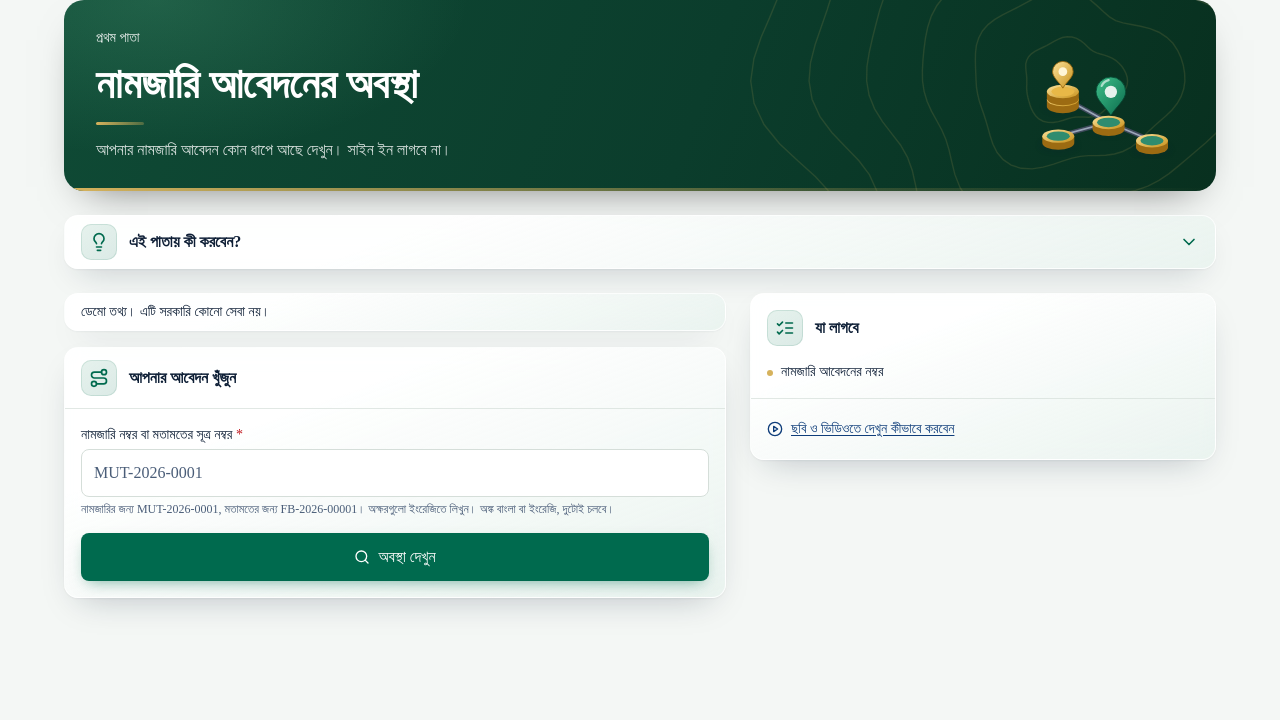
TrackView › renders in Bangla
Type "MUT-2026-0009" into the field labelled "নামজারি নম্বর বা মতামতের সূত্র নম্বর *" at (395, 473), box [81,449,709,497]
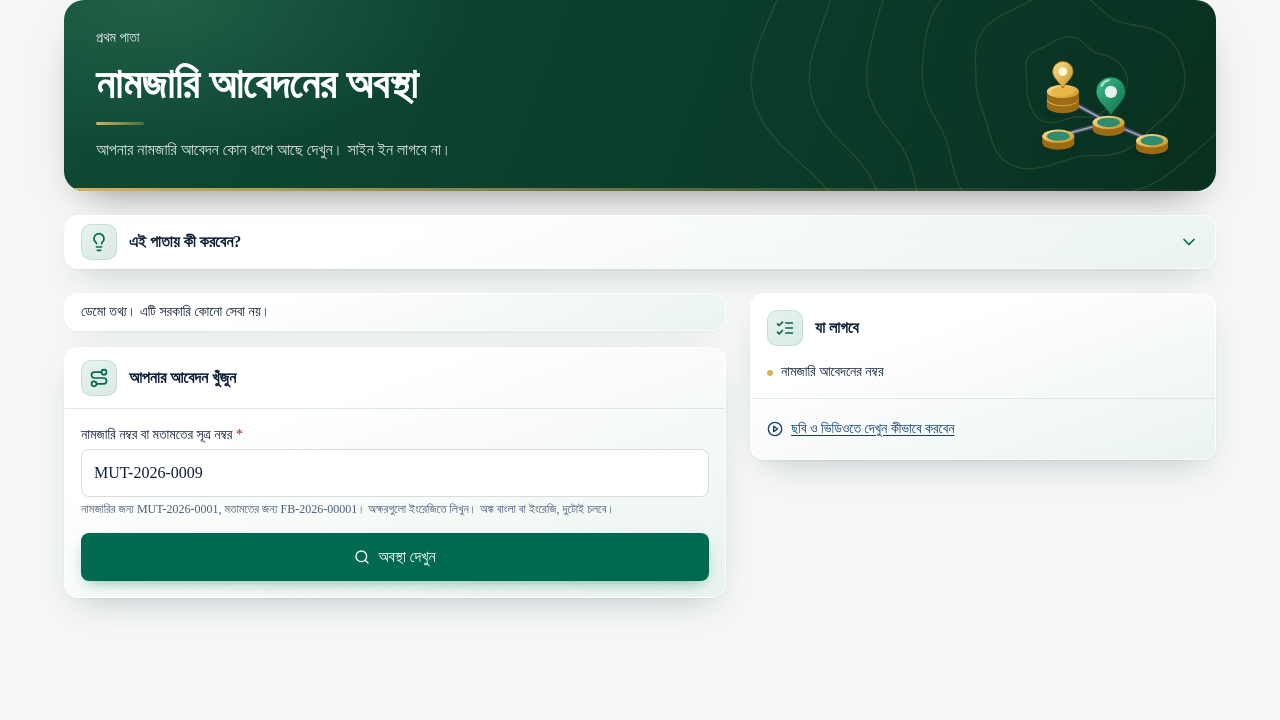
Click the button "অবস্থা দেখুন" at (395, 557), box [81,533,709,581]
(page scrolled)
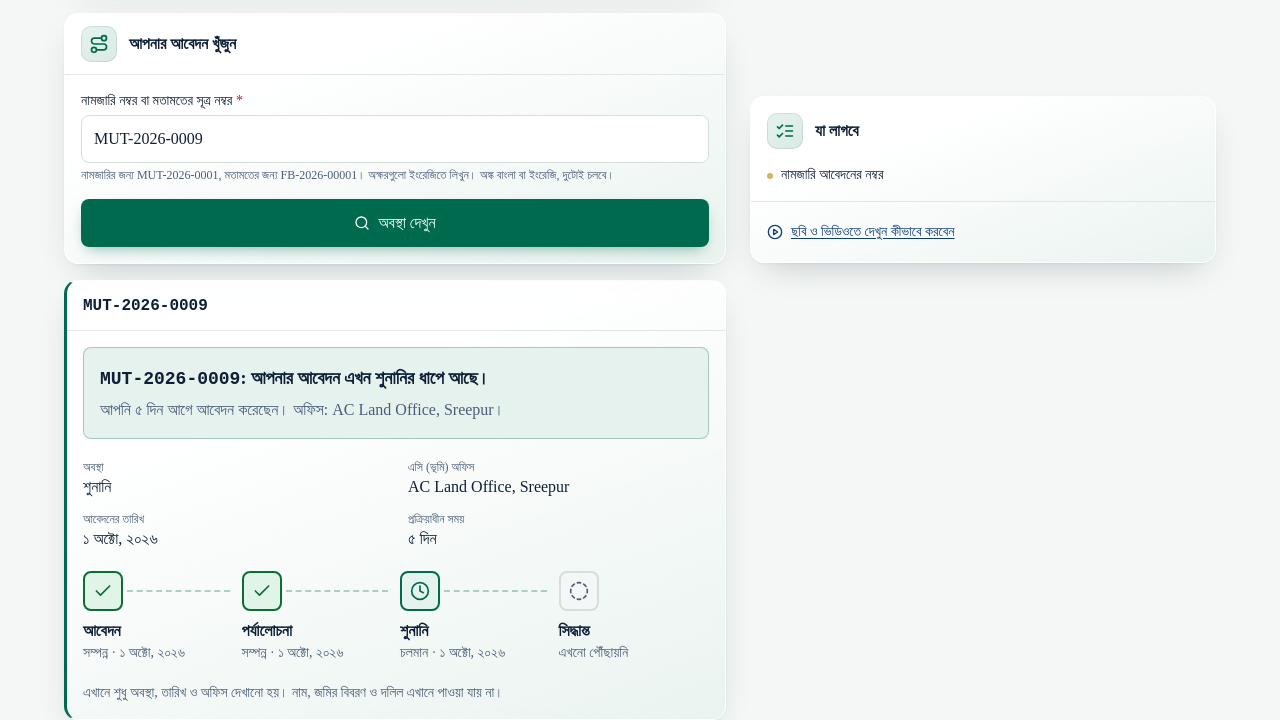
Expected: the element with test id "track-result" is shown, [64,280,726,719]
Expected: the list item with test id "step-HEARING" shows "শুনানি", [400,622,428,639]
Expected: the list item with test id "step-HEARING" shows "চলমান", [400,645,428,660]
